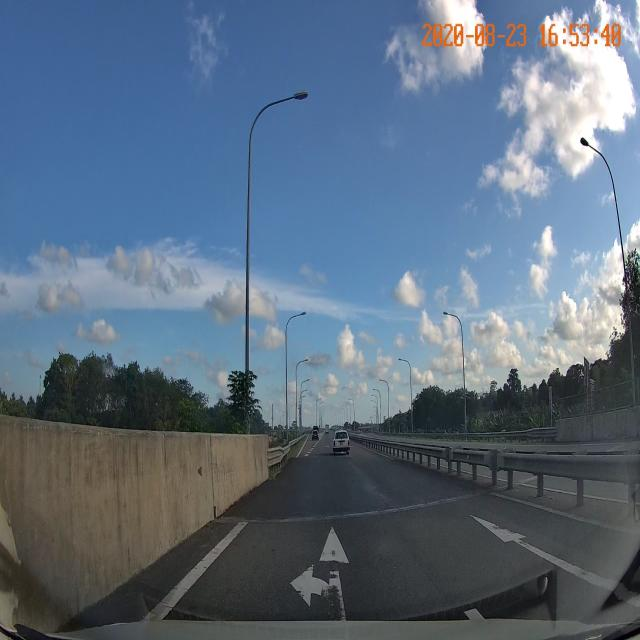forward_lft: (144, 513, 492, 623)
